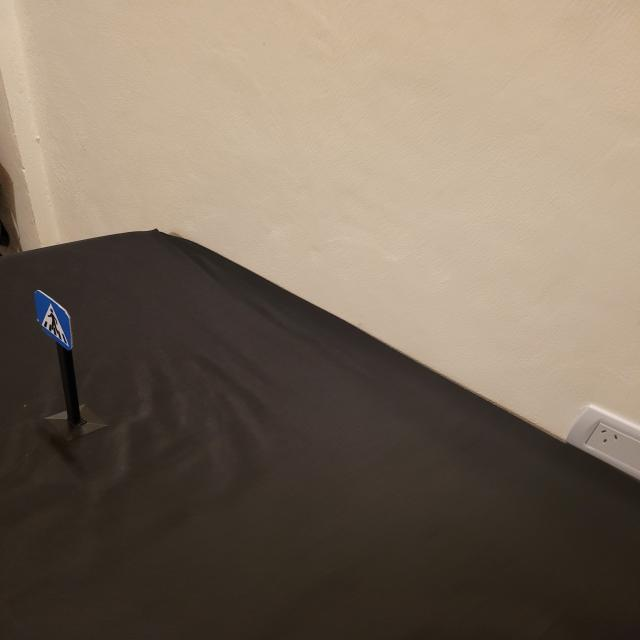crosswalk: (34, 290, 77, 354)
